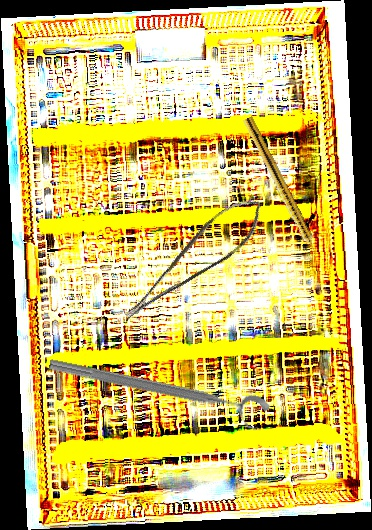Fixation Ring: (44, 352, 272, 434)
Handpiece: (240, 115, 322, 260)
Micro Scissor: (106, 189, 276, 325)
